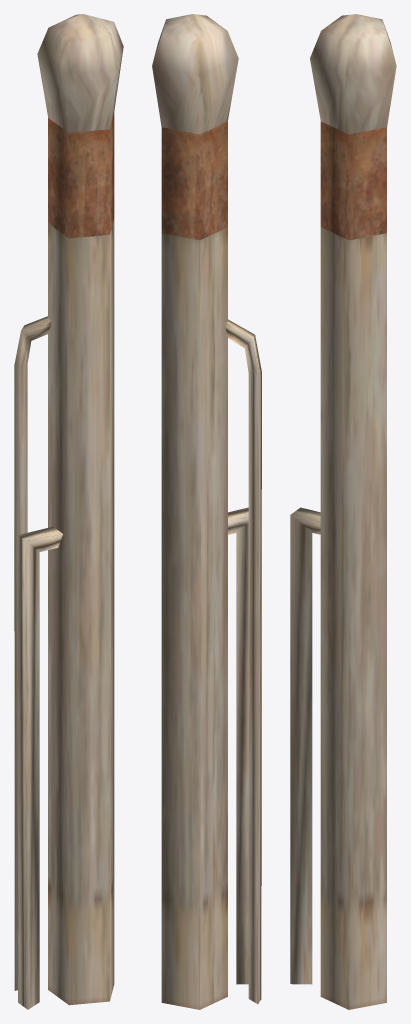
The model's file is thm_tato_debris_s03_l2.fbx.
3 renders of one model, left to right at view 1: azimuth 30°, elevation 25°; view 2: azimuth 210°, elevation 25°; view 3: azimuth 330°, elevation 25°, orthographic.
Visible parts, largest first — view 1: mesh_node; view 2: mesh_node; view 3: mesh_node.
Boxes of the visible parts, x1,y1,x2,y2 form: mesh_node: [14, 14, 123, 1009]; mesh_node: [152, 14, 261, 1009]; mesh_node: [290, 14, 396, 1009].
Bounding box in the file's own units: 0.4542 × 4.22 × 0.3624.
